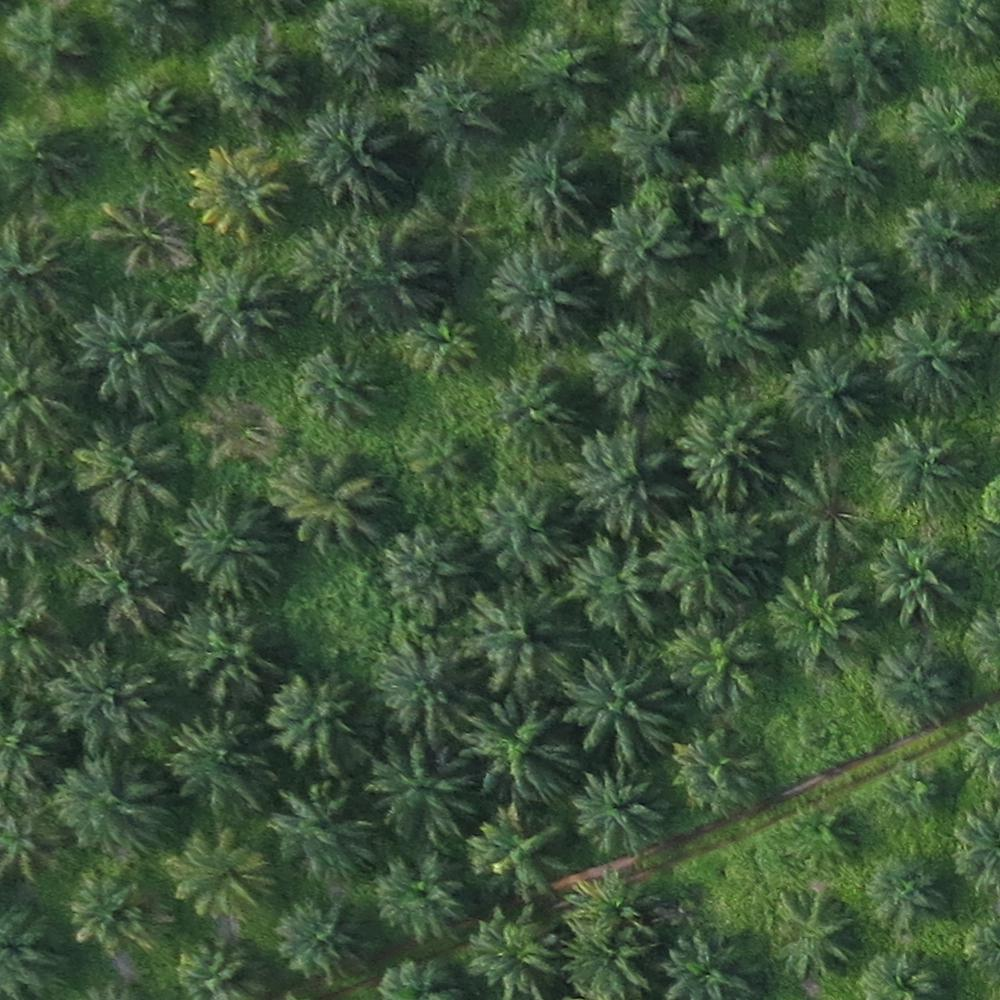Palm: (462, 581, 585, 693), (364, 729, 470, 850), (162, 712, 273, 821), (569, 423, 673, 539), (165, 602, 283, 704), (280, 450, 389, 560), (72, 302, 187, 405), (572, 652, 680, 760), (170, 495, 286, 595), (264, 781, 373, 885), (55, 861, 163, 965), (655, 507, 756, 617), (468, 698, 575, 801), (51, 654, 158, 756), (57, 758, 165, 856), (374, 638, 482, 734), (300, 107, 404, 205), (568, 769, 677, 862), (475, 480, 575, 580), (767, 571, 869, 668), (568, 543, 671, 639), (873, 415, 973, 513), (479, 362, 581, 458), (468, 807, 570, 901), (596, 194, 692, 293), (688, 274, 788, 369), (487, 249, 588, 343), (73, 532, 170, 629), (682, 393, 777, 492), (169, 832, 269, 926), (405, 62, 506, 154), (78, 431, 175, 526), (879, 310, 977, 401), (894, 200, 990, 292), (700, 160, 792, 256), (667, 613, 761, 706), (680, 733, 777, 823), (902, 85, 995, 178), (512, 29, 611, 116), (787, 345, 879, 438), (270, 676, 367, 764), (378, 530, 470, 621), (607, 94, 701, 183), (778, 466, 869, 557), (371, 854, 462, 945), (273, 898, 369, 984), (707, 62, 801, 148), (192, 265, 288, 349), (867, 539, 957, 628), (591, 324, 679, 415), (465, 909, 557, 996), (195, 150, 288, 236), (870, 638, 960, 726), (103, 196, 197, 280), (792, 240, 888, 322), (613, 4, 710, 84), (564, 872, 657, 955), (502, 138, 588, 227), (307, 4, 400, 84), (807, 127, 890, 215), (204, 36, 292, 119), (4, 8, 90, 92), (1, 112, 82, 201), (656, 928, 754, 1000), (769, 891, 856, 971), (864, 852, 949, 933), (294, 349, 378, 425), (819, 18, 901, 95), (104, 77, 184, 154), (778, 796, 856, 871), (871, 757, 951, 827), (407, 315, 474, 380)
